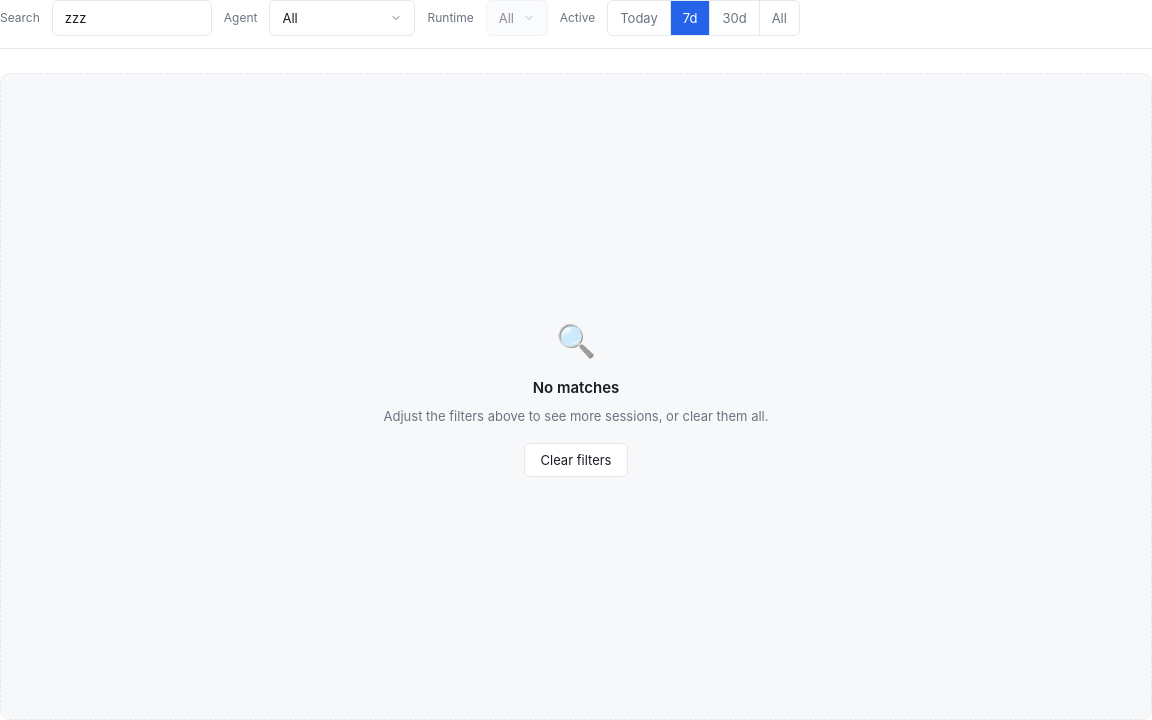
Sessions page — state matrix › No-match → Clear filters reveals the hidden row (URL filter reset)
This screenshot has width=1152, height=720.
Click the button with test id "sessions-empty-nomatch-cta" at [576, 460], box [524, 443, 628, 477]
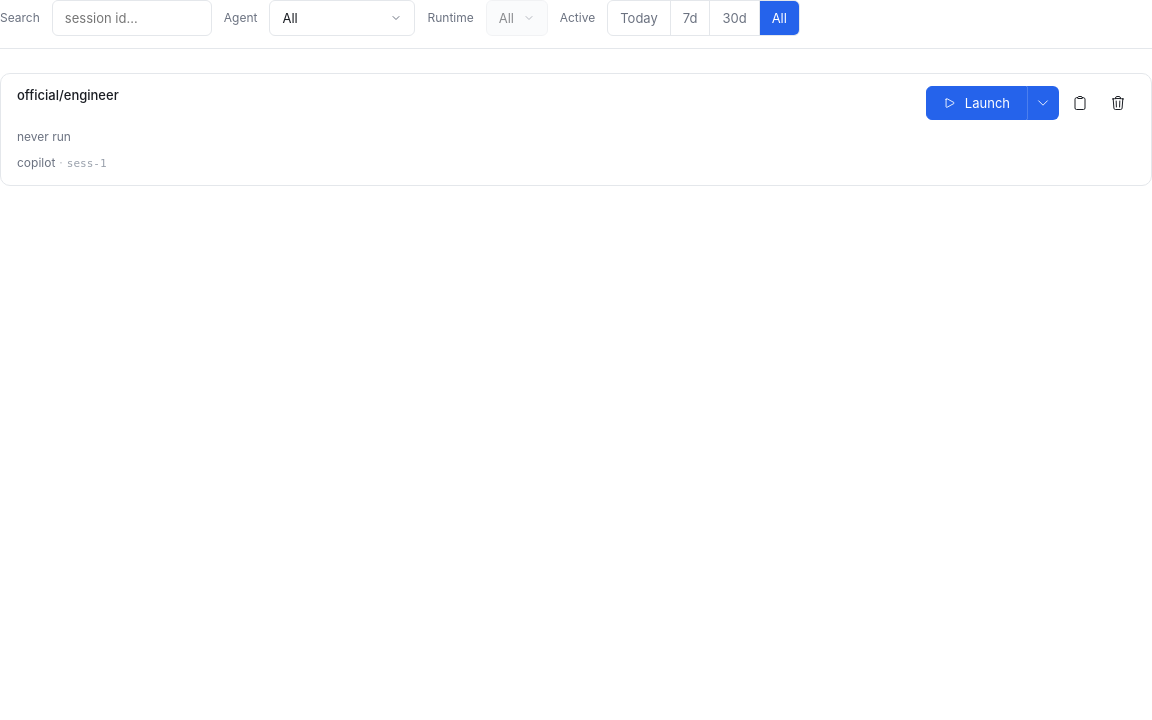
Expected: the message with test id "sessions-empty-nomatch" is gone
Expected: the list named "Sessions" is shown, [0, 73, 1151, 186]
